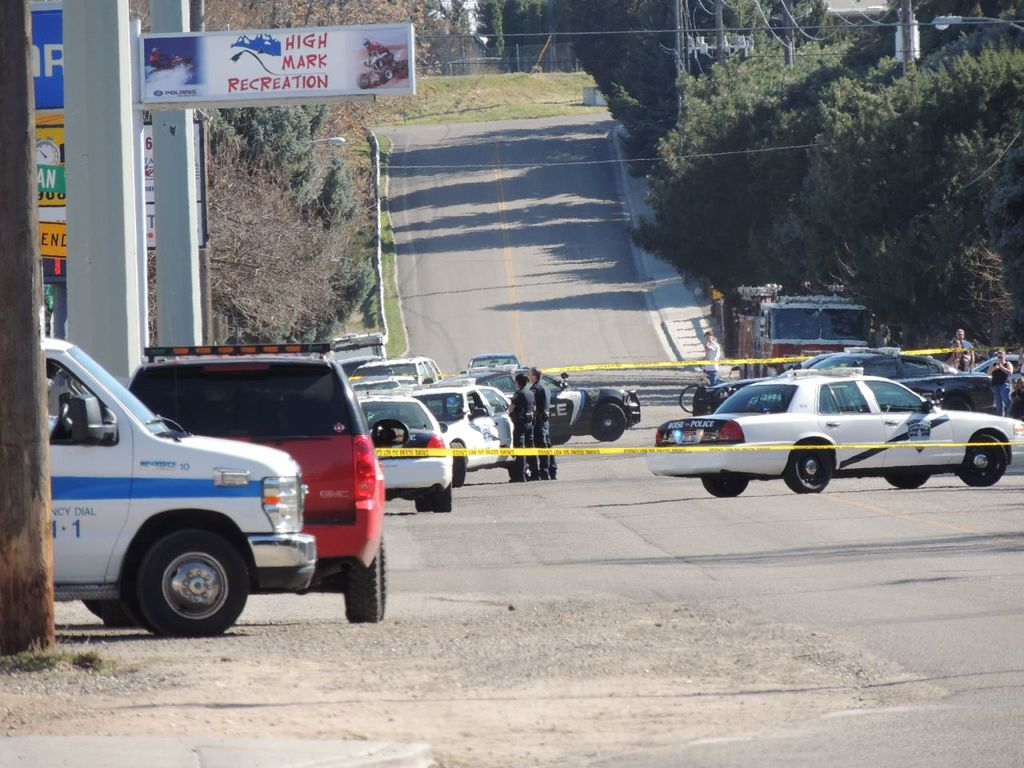Car: (35, 327, 323, 645), (128, 336, 387, 617), (649, 365, 1023, 495), (361, 362, 509, 518), (801, 350, 1001, 411)
